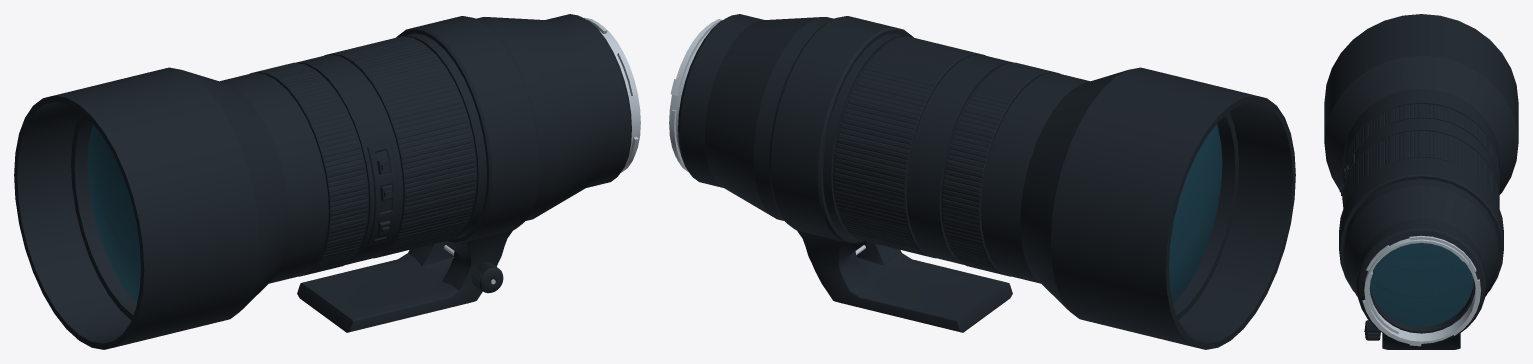
Rendered from camera_lens.glb.
3 renders of one model, left to right at view 1: azimuth 30°, elevation 25°; view 2: azimuth 150°, elevation 25°; view 3: azimuth 270°, elevation 25°, orthographic. The views are drawn at different scales.
Visible parts, largest first — view 1: camera_lens; view 2: camera_lens; view 3: camera_lens.
Part boxes in pixels (x1,y1,x2,y2): camera_lens: (14,14,640,349); camera_lens: (669,14,1295,349); camera_lens: (1324,14,1518,349).
Bounding box in the file's own units: 0.2 × 0.0987 × 0.0861.
